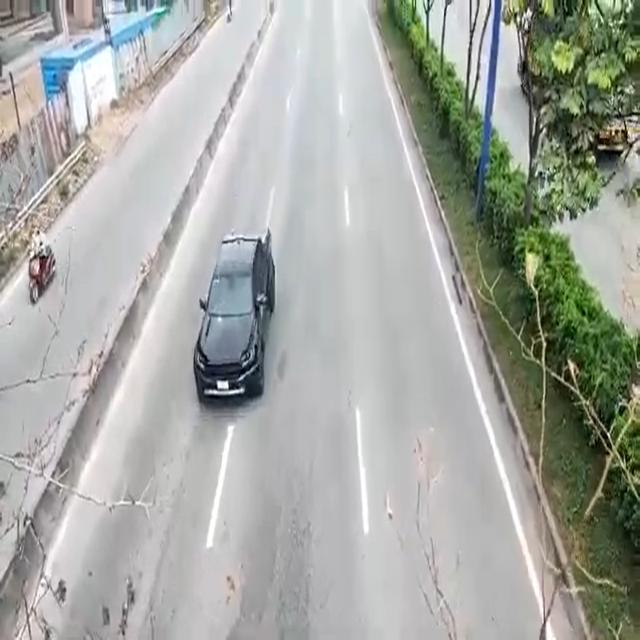car: (202, 236, 269, 406)
motor: (27, 243, 56, 306)
